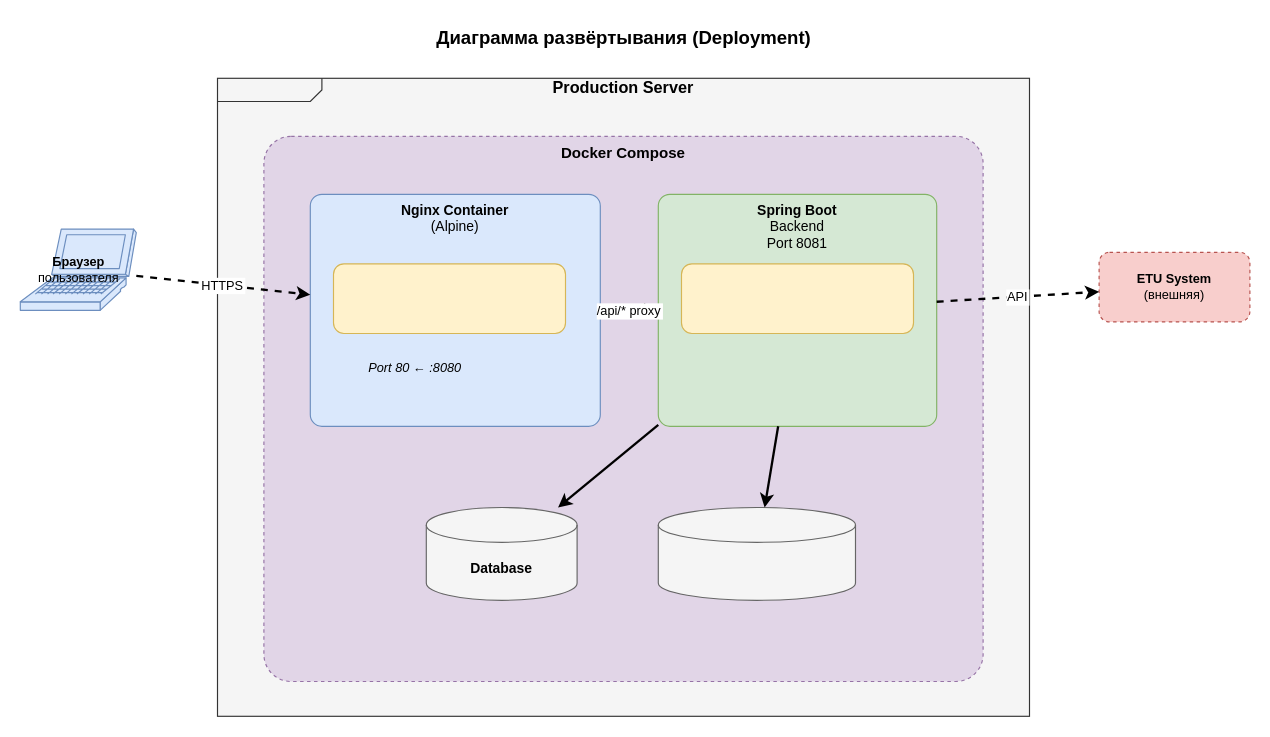
Some shapes in this 1270 by 737 pixel diagram are drawn without their labels. Each missing label, with the centre of its shape:
"File Storage (документы студентов)" belongs at point 756,553.
"Services Auth | Reports | Validation Templates | Analytics | Admin" belongs at point 796,298.
"Static Files Vue SPA Build /usr/share/nginx/html/" belongs at point 449,298.
